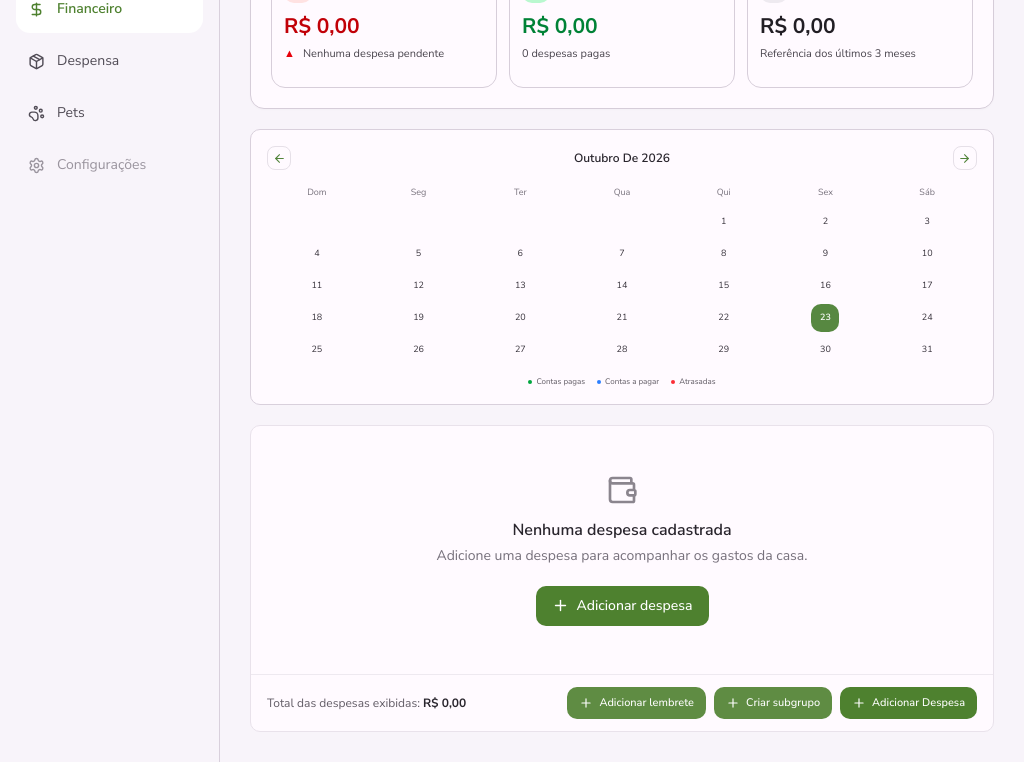
FinancePage expense CRUD › blocks an empty form and shows a friendly required-fields message
(page scrolled)
Check: the heading "Nenhuma despesa cadastrada" is shown, box left=512, top=518, right=732, bottom=540
Click the button "Adicionar despesa".
click(622, 606)  # box left=536, top=586, right=708, bottom=626
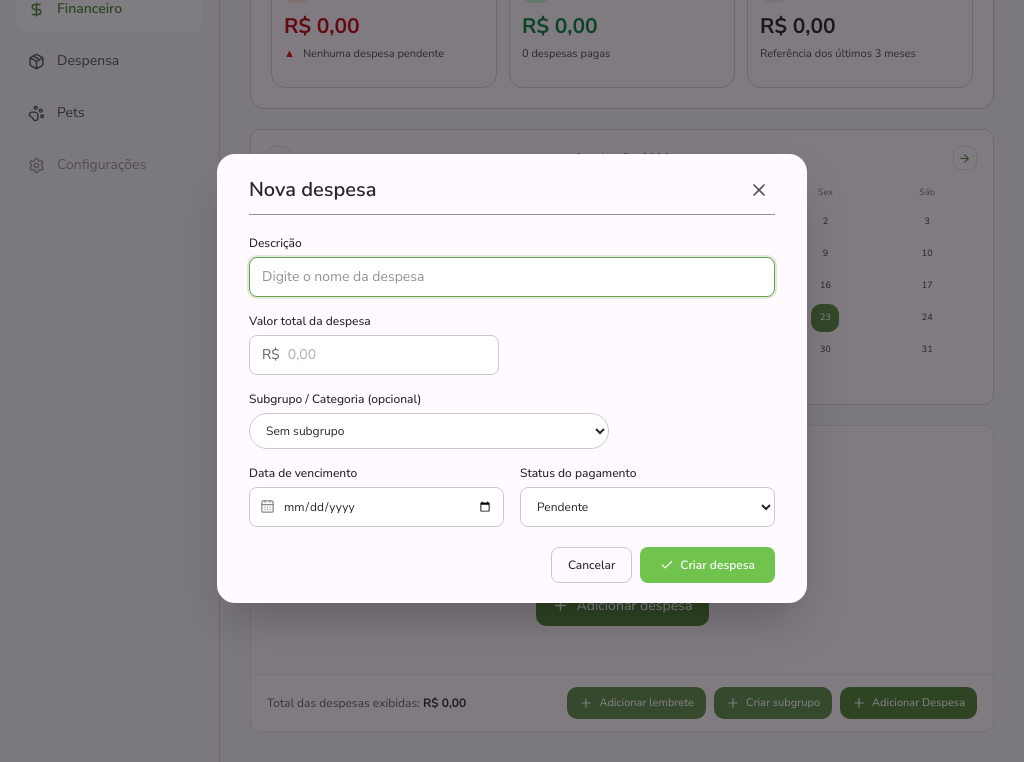
Click the button "Criar despesa".
click(708, 564)  # box left=640, top=546, right=775, bottom=582
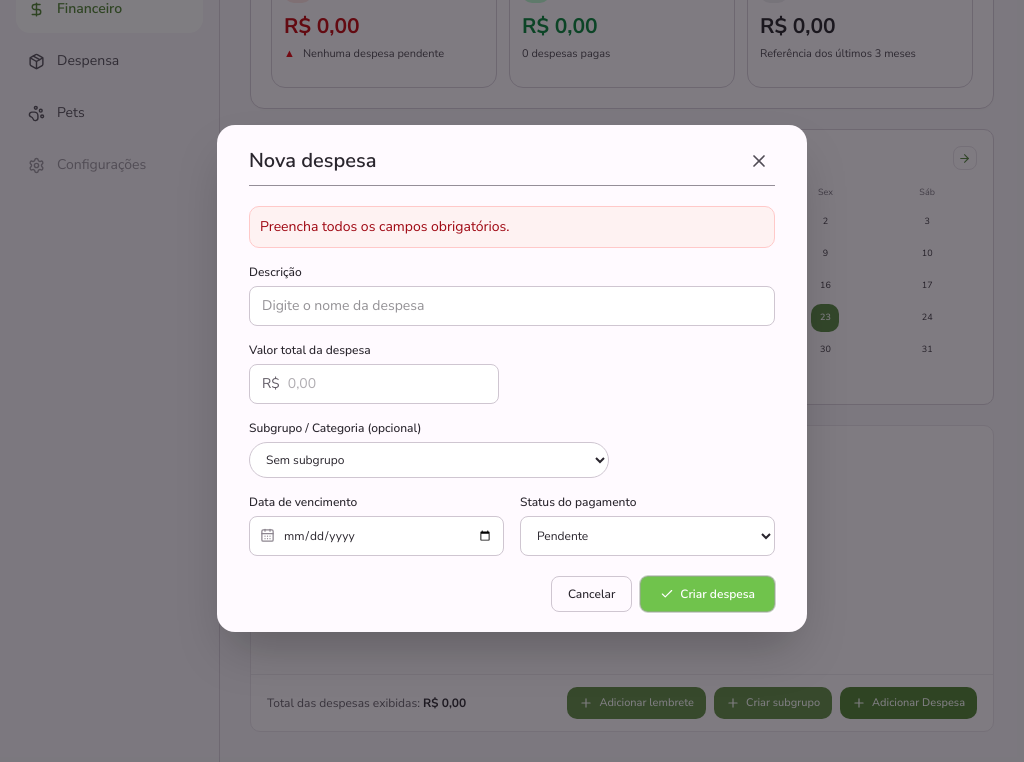
Check: the message reads "Preencha todos os campos obrigatórios.", box left=260, top=216, right=509, bottom=236
